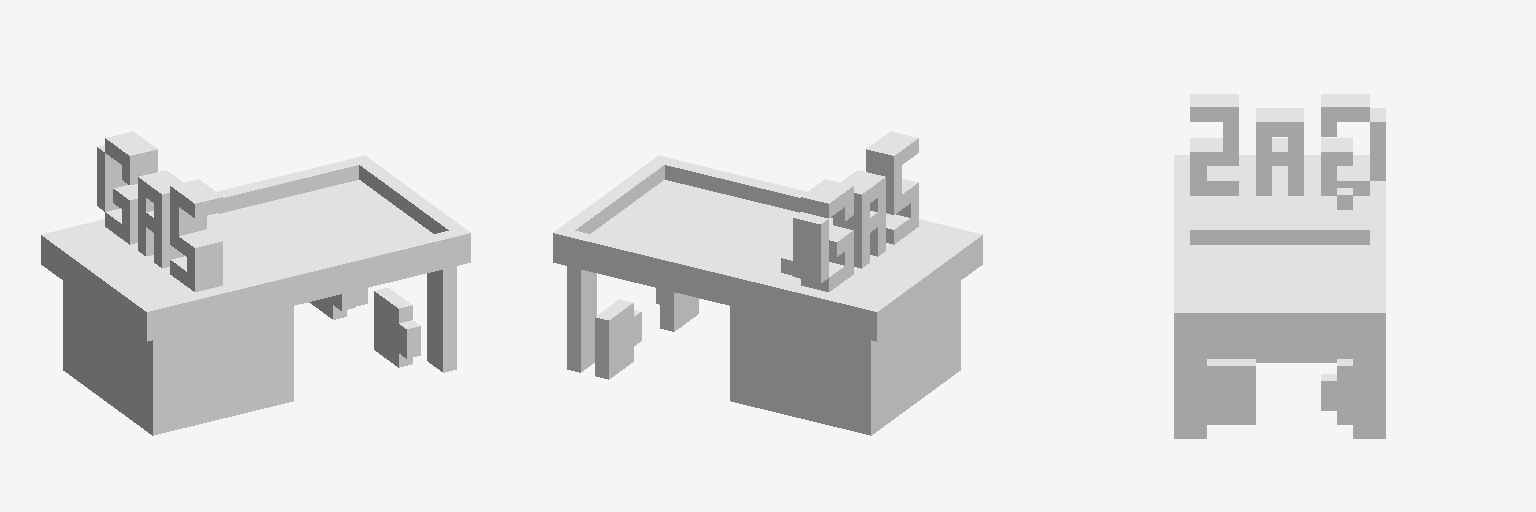
Rendered from Gas.obj.
The picture shows the model from 3 angles: view 1: azimuth 30°, elevation 25°; view 2: azimuth 150°, elevation 25°; view 3: azimuth 270°, elevation 25°; orthographic projection.
Parts seen in each view (by area): view 1: Gas; view 2: Gas; view 3: Gas.
Part boxes in pixels (left/top/right/bottom): Gas: left=41, top=131, right=470, bottom=435; Gas: left=553, top=131, right=982, bottom=435; Gas: left=1174, top=94, right=1385, bottom=438.
Bounding box in the file's own units: 23 × 15 × 13.